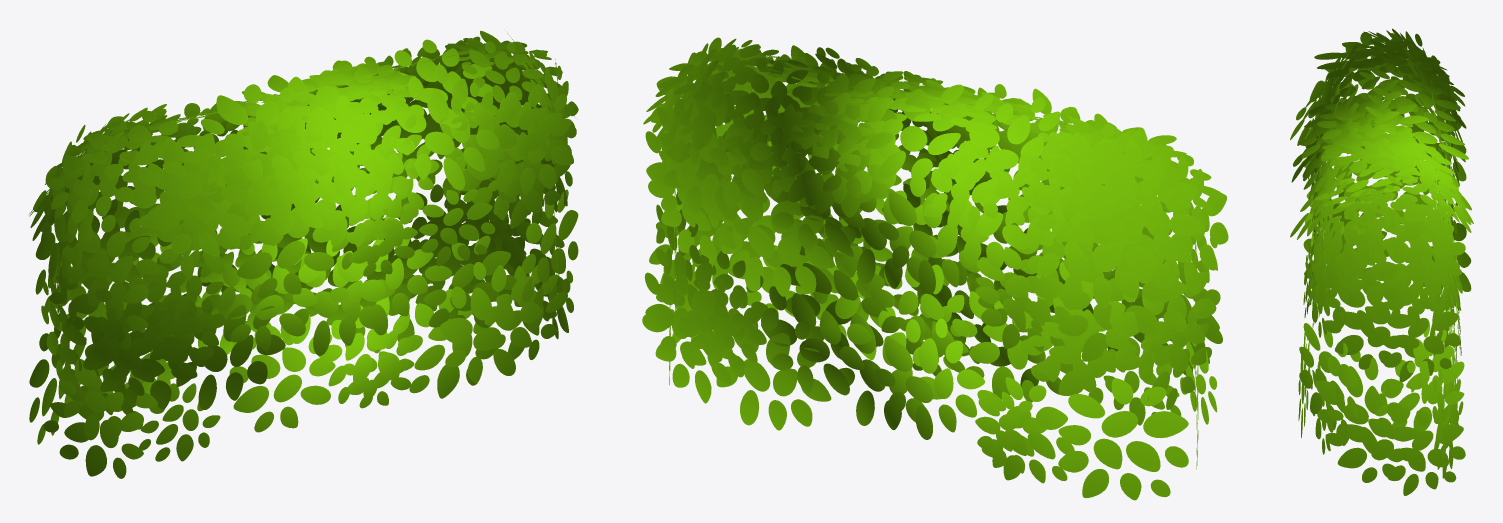
File: bush_large.glb
3 views of the same model, side by side, from view 1: azimuth 30°, elevation 25°; view 2: azimuth 150°, elevation 25°; view 3: azimuth 270°, elevation 25° (orthographic). The views are drawn at different scales.
Parts seen in each view (by area): view 1: Bush_Large; view 2: Bush_Large; view 3: Bush_Large.
Boxes of the visible parts, <box> form: Bush_Large: <box>29,31,578,478</box>; Bush_Large: <box>642,37,1228,500</box>; Bush_Large: <box>1290,28,1473,495</box>.
Size of the model in its own units: 1.9 by 1.22 by 0.7238.
1 material, 1 textured.
